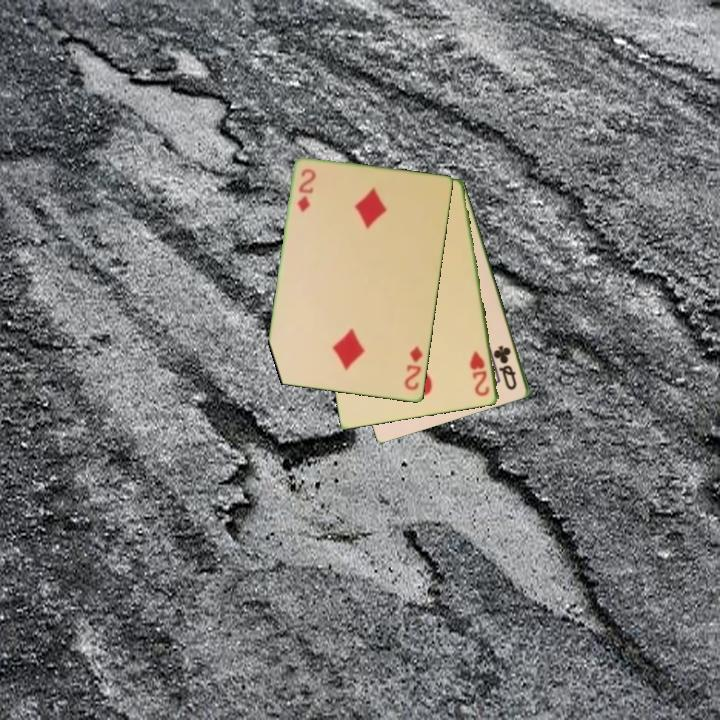2d: (401, 343, 426, 394), (294, 165, 318, 215)
2h: (467, 347, 493, 399)
Qc: (490, 342, 520, 393)
